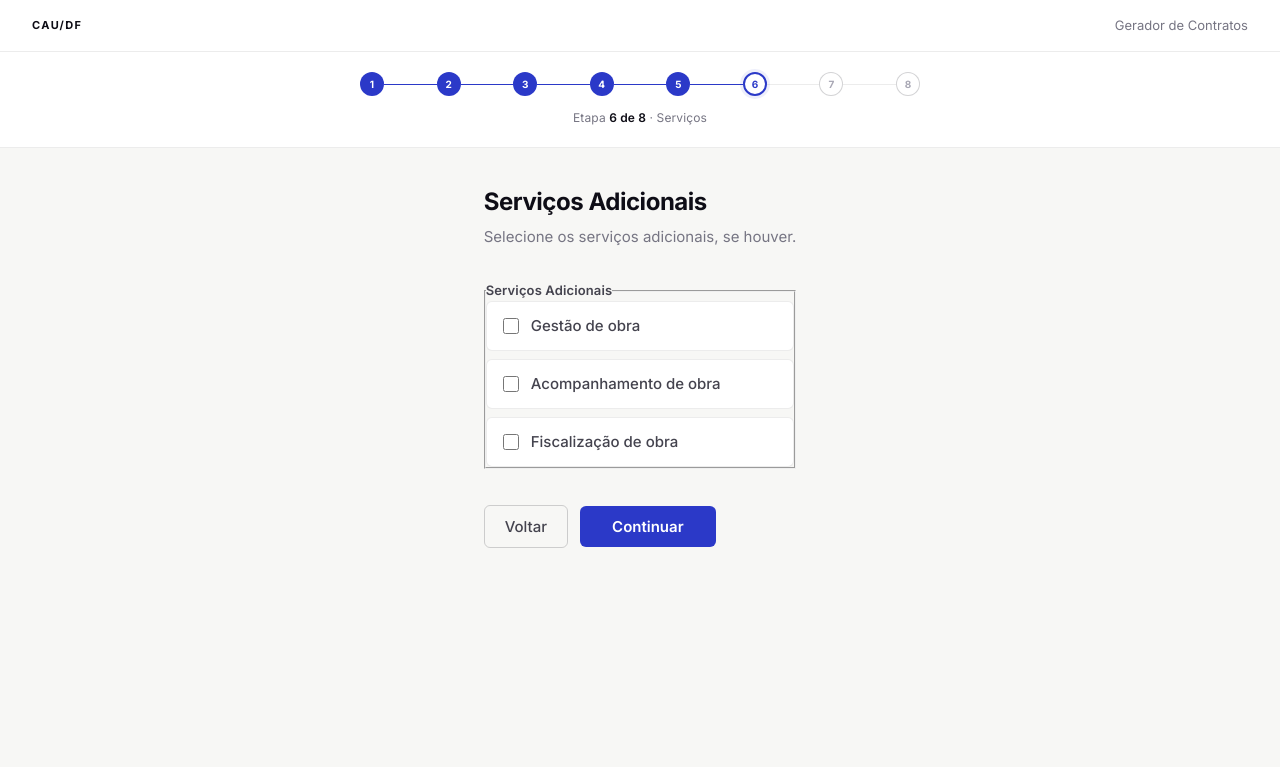
Test: AdditionalServicesPage › description field becomes visible when a service is checked
Click the checkbox labelled "Gestão de obra": click(511, 326) [503,318,519,334]
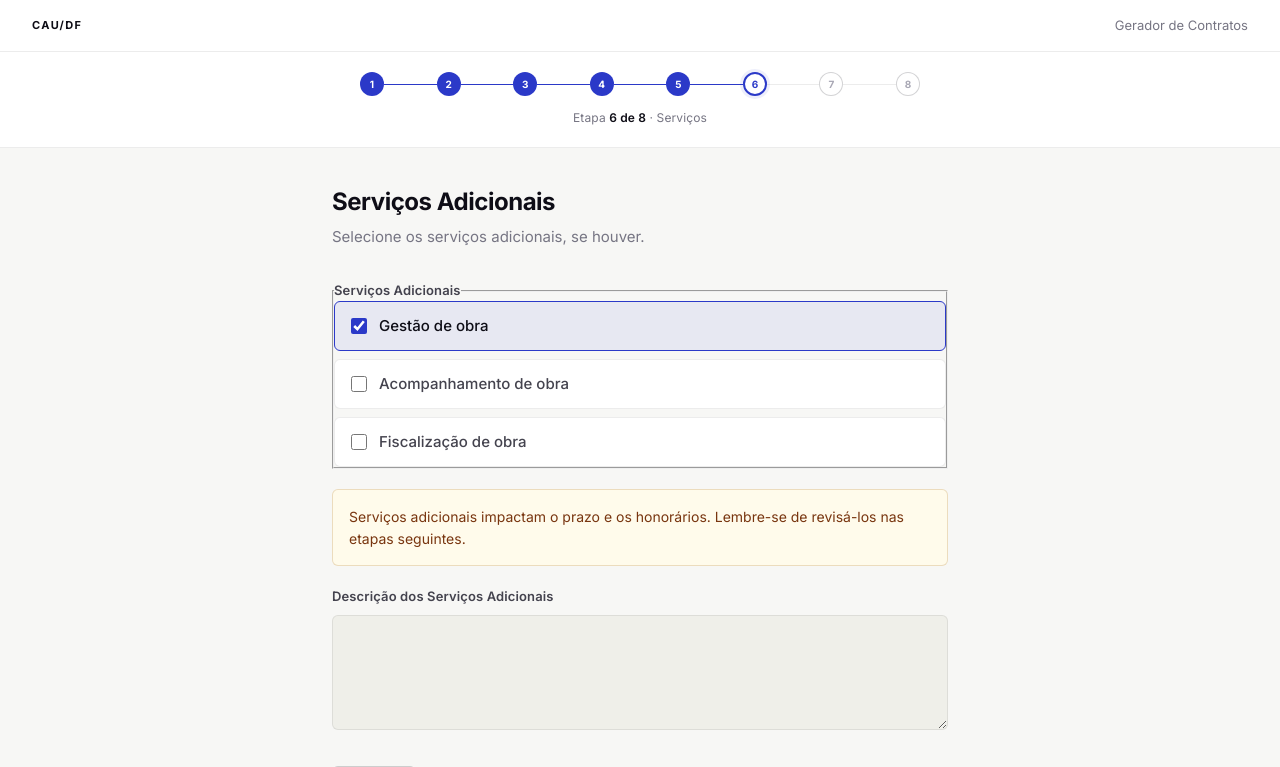
Expected: the text box labelled "Descrição dos Serviços Adicionais" is shown, [332,615,948,730]
